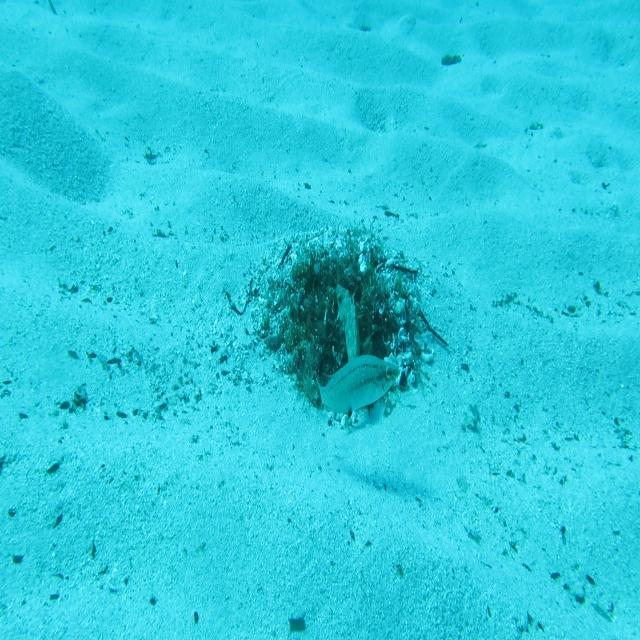LF: (334, 282, 362, 437)
core_nest: (314, 270, 358, 304)
female: (312, 353, 400, 421)
nest: (245, 218, 443, 449)
vegetation: (439, 52, 463, 68)
